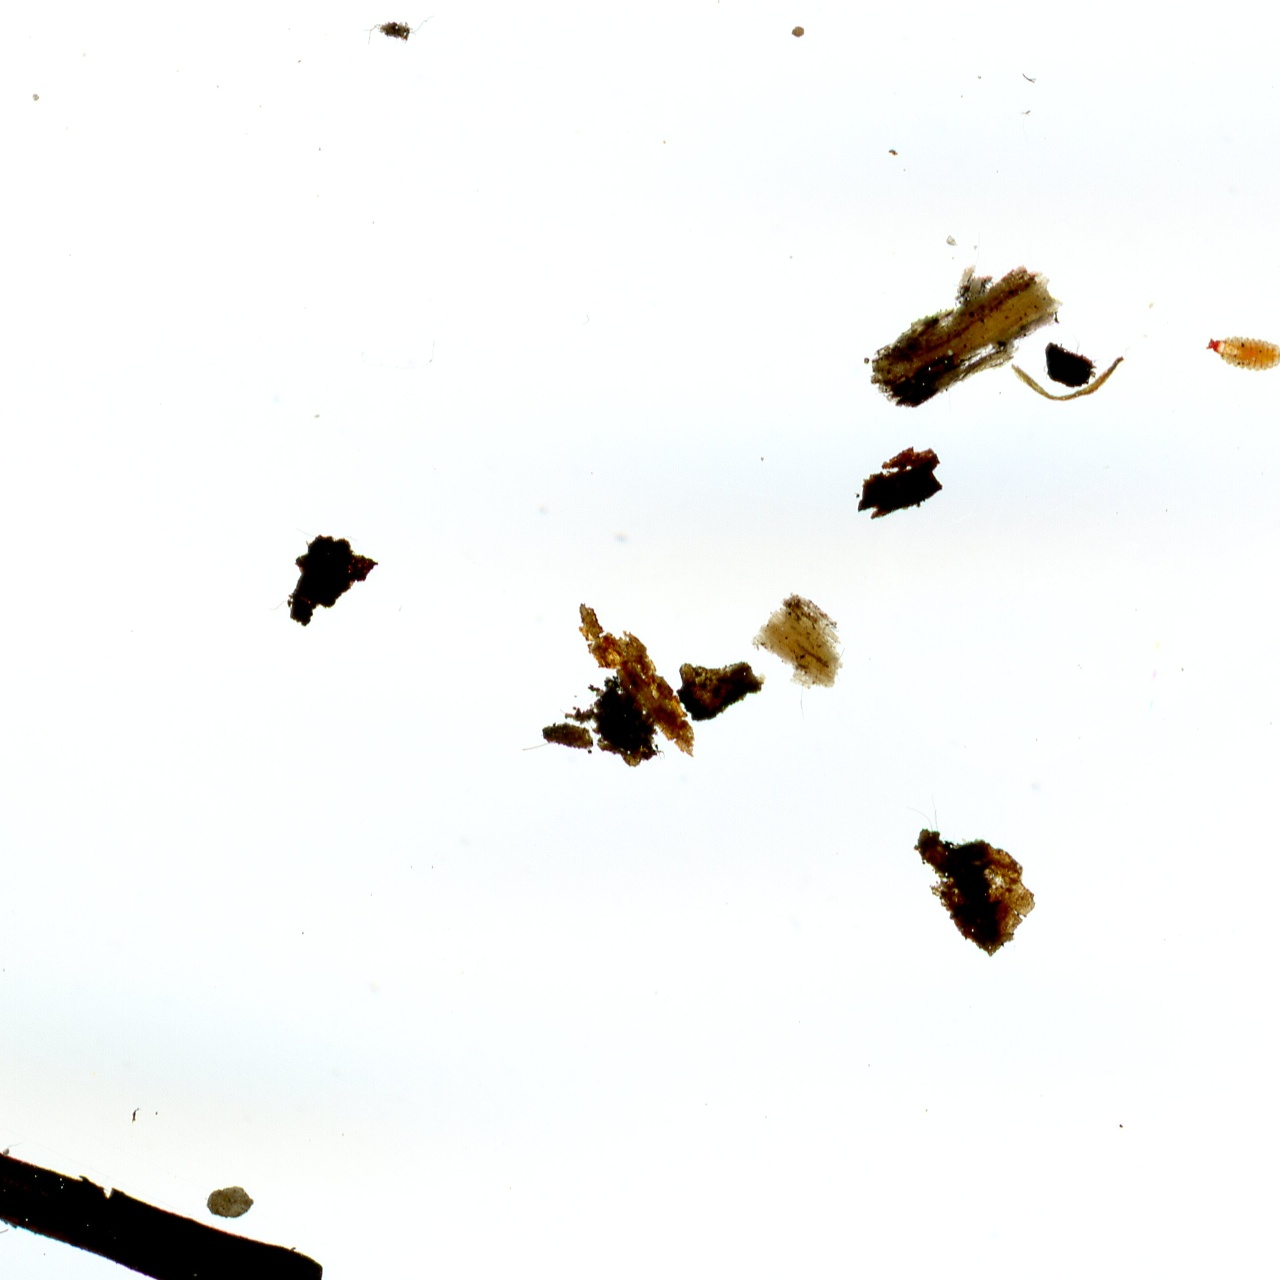arthropod: (1205, 333, 1280, 374)
